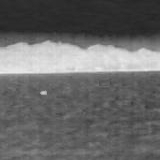Target: (39, 90, 48, 96)
